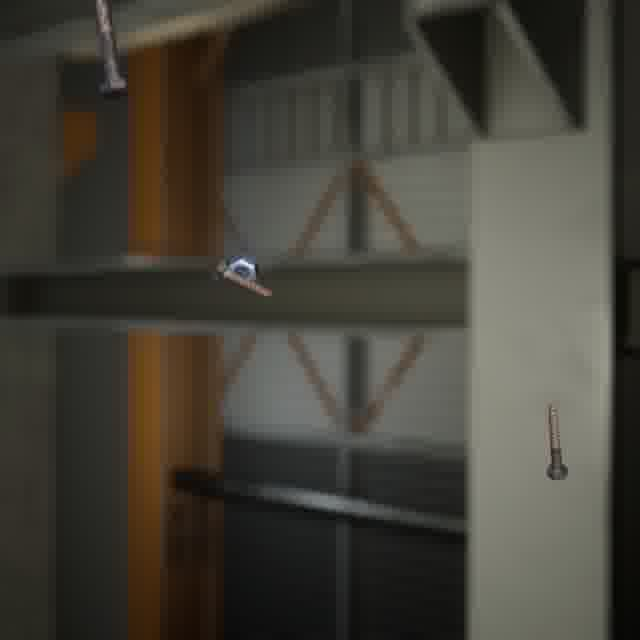bolt: (90, 0, 134, 104), (206, 252, 277, 303), (542, 395, 572, 484)
nut: (223, 248, 262, 286)
